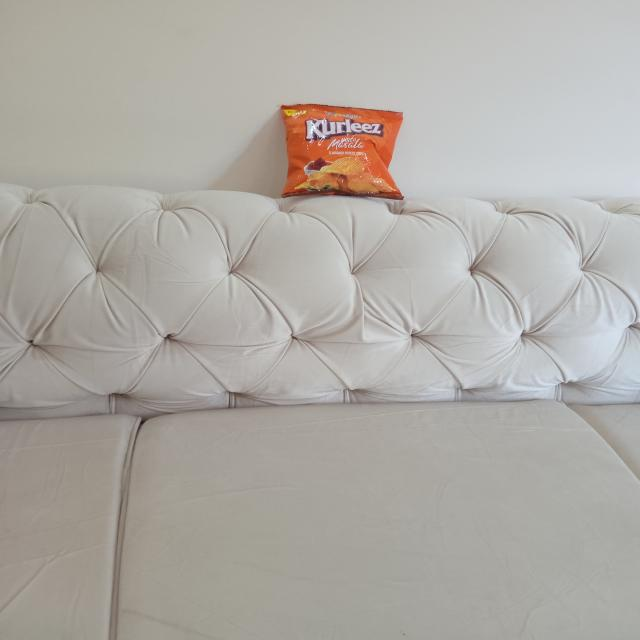Plastic: (275, 97, 408, 203)
